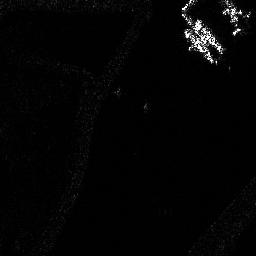ship: (181, 27, 214, 64), (192, 18, 225, 53)
